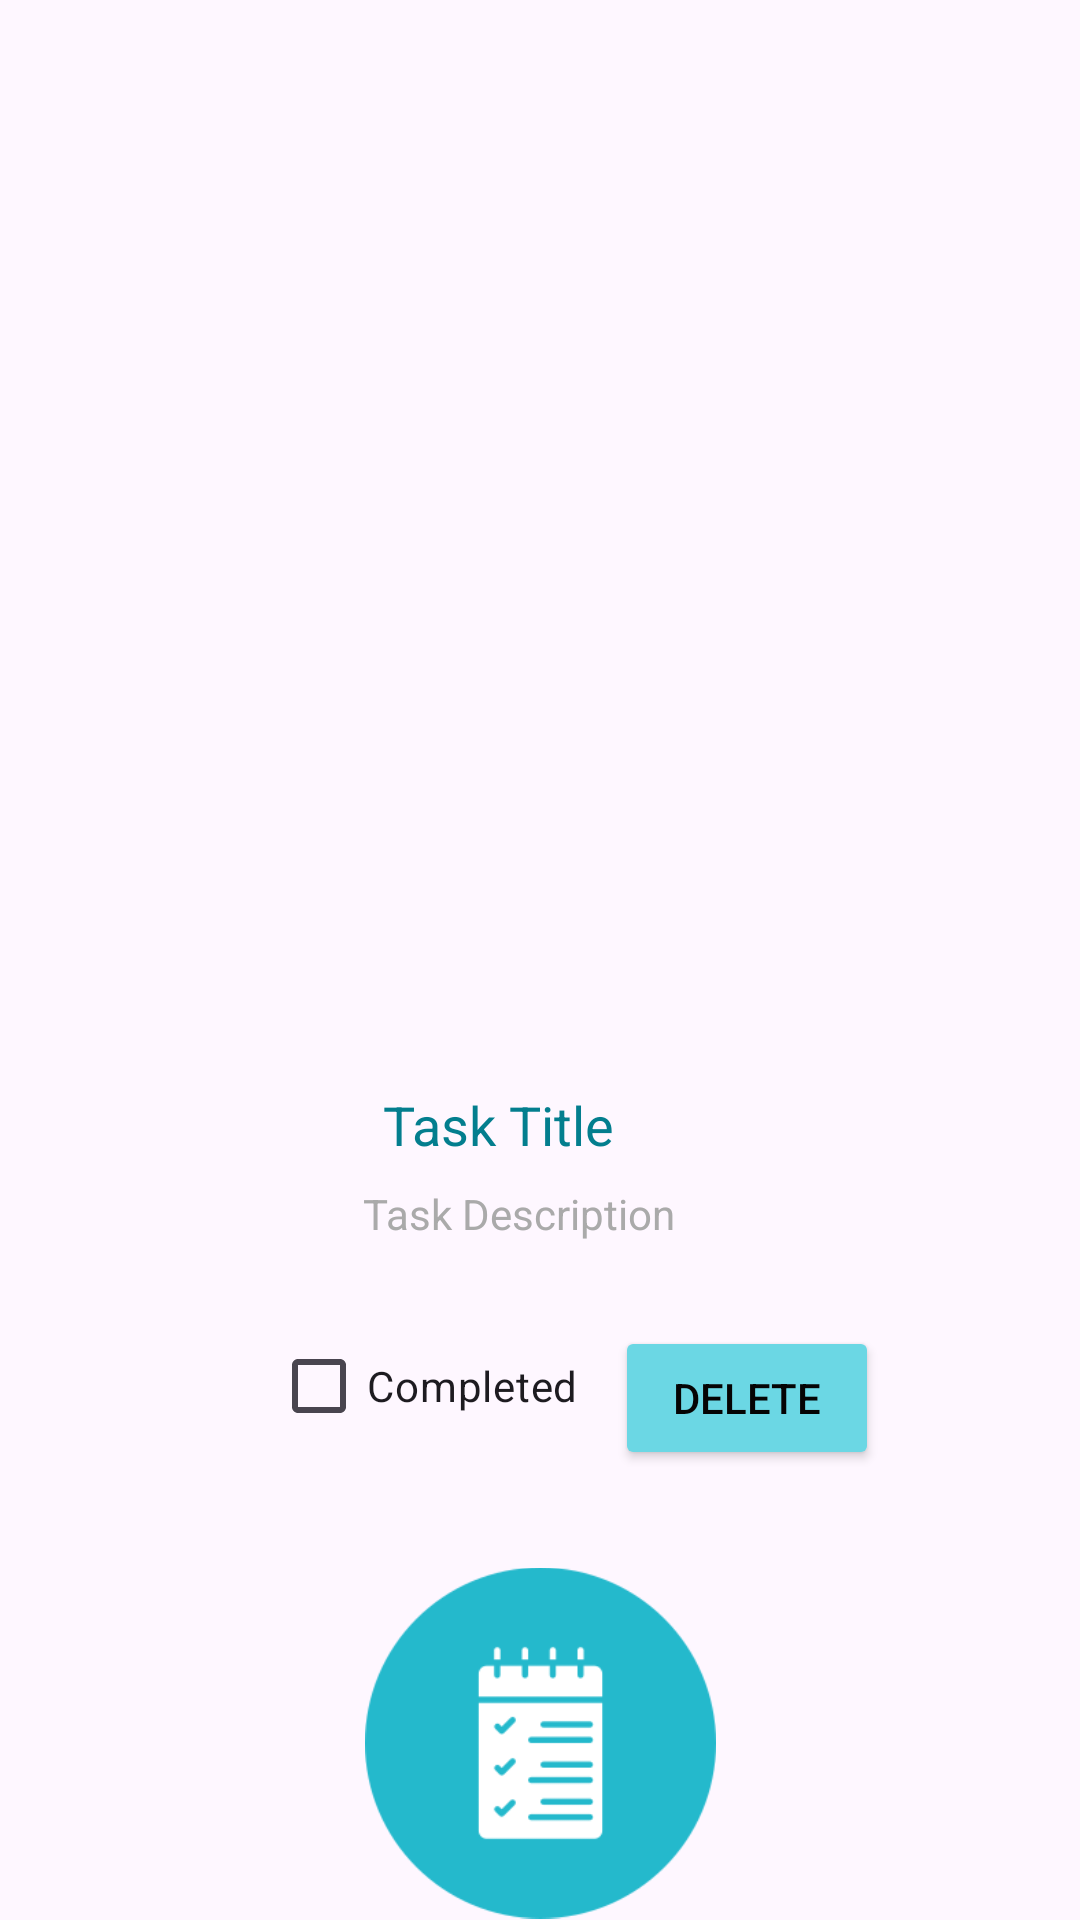

Screen size 1080w x 1920h. Icon name, then its box in pixels as (x1, y1, x2, y2):
task: (365, 1568, 716, 1919)
